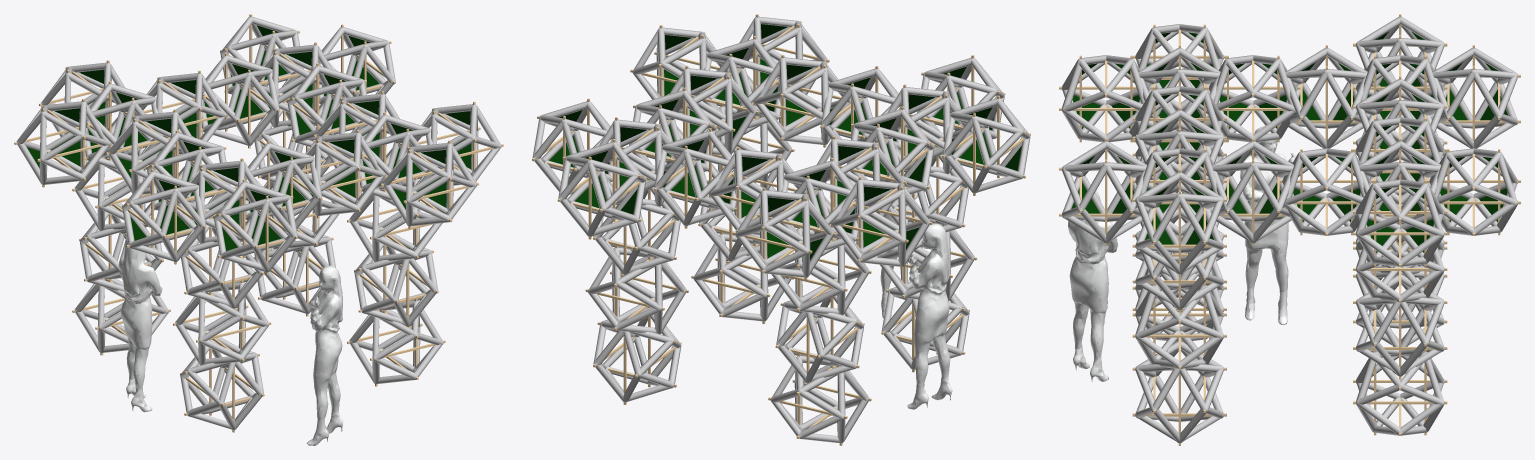
File: your-model.glb
3 renders of one model, left to right at view 1: azimuth 30°, elevation 25°; view 2: azimuth 150°, elevation 25°; view 3: azimuth 270°, elevation 25°, orthographic. The views are drawn at different scales.
Visible parts, largest first — view 1: D3D-P-TRA- (×2), object 173, object 40, object 102, object 151, object 487, object 333, object 459, object 304, object 474, object 185, object 543 (+54 smaller); view 2: D3D-P-TRA- (×2), object 153, object 101, object 65, object 129, object 305, object 439, object 603, object 585, object 451, object 463, object 529 (+61 smaller); view 3: D3D-P-TRA- (×2), object 42, object 30, object 131, object 29, object 172, object 80, object 64, object 82, object 398, object 544, object 533 (+97 smaller).
Boxes of the visible parts, x1,y1,x2,y2 form: D3D-P-TRA- (×2): [118, 239, 342, 445]; object 173: [220, 198, 270, 248]; object 40: [406, 153, 451, 204]; object 102: [40, 111, 85, 162]; object 151: [129, 188, 178, 238]; object 487: [361, 259, 409, 303]; object 333: [187, 362, 235, 406]; object 459: [204, 72, 252, 122]; object 304: [315, 142, 359, 191]; object 474: [372, 311, 418, 361]; object 185: [198, 292, 243, 343]; object 543: [294, 82, 343, 131]; D3D-P-TRA- (×2): [880, 149, 952, 409]; object 153: [971, 116, 1023, 168]; object 101: [858, 190, 906, 243]; object 65: [587, 159, 639, 212]; object 129: [762, 201, 810, 254]; object 305: [781, 68, 828, 118]; object 439: [806, 312, 856, 358]; object 603: [623, 331, 674, 377]; object 585: [614, 258, 662, 311]; object 451: [797, 366, 845, 419]; object 463: [682, 148, 734, 201]; object 529: [686, 79, 732, 132]; D3D-P-TRA- (×2): [1068, 126, 1296, 382]; object 42: [1062, 162, 1108, 212]; object 30: [1135, 193, 1182, 243]; object 131: [1470, 69, 1517, 119]; object 29: [1176, 193, 1223, 243]; object 172: [1062, 58, 1109, 113]; object 80: [1356, 183, 1403, 237]; object 64: [1470, 152, 1517, 206]; object 82: [1397, 183, 1444, 237]; object 398: [1285, 69, 1329, 119]; object 544: [1284, 152, 1329, 206]; object 533: [1250, 162, 1293, 212].
Size of the model in its own units: 3.66 by 2.5 by 3.66.
